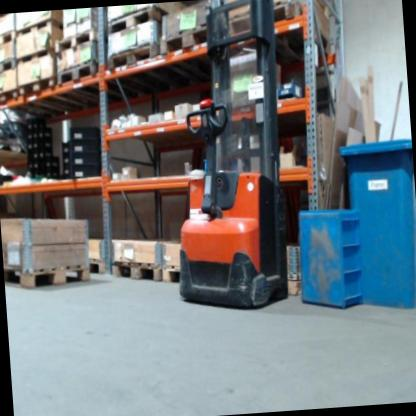pallet: (3, 257, 92, 299), (228, 3, 304, 43), (161, 20, 220, 59), (104, 41, 165, 75), (106, 4, 172, 35), (108, 254, 163, 291), (53, 57, 107, 92), (56, 24, 105, 59), (14, 15, 62, 43), (18, 72, 59, 100), (17, 43, 57, 68), (163, 262, 189, 286), (88, 251, 109, 279), (0, 56, 19, 78), (0, 29, 16, 53), (0, 87, 18, 107)
pallet_truck: (156, 0, 306, 314)
small_load_carrier: (202, 155, 241, 176), (70, 126, 101, 146), (69, 163, 103, 180), (70, 150, 101, 167), (69, 140, 101, 153)
